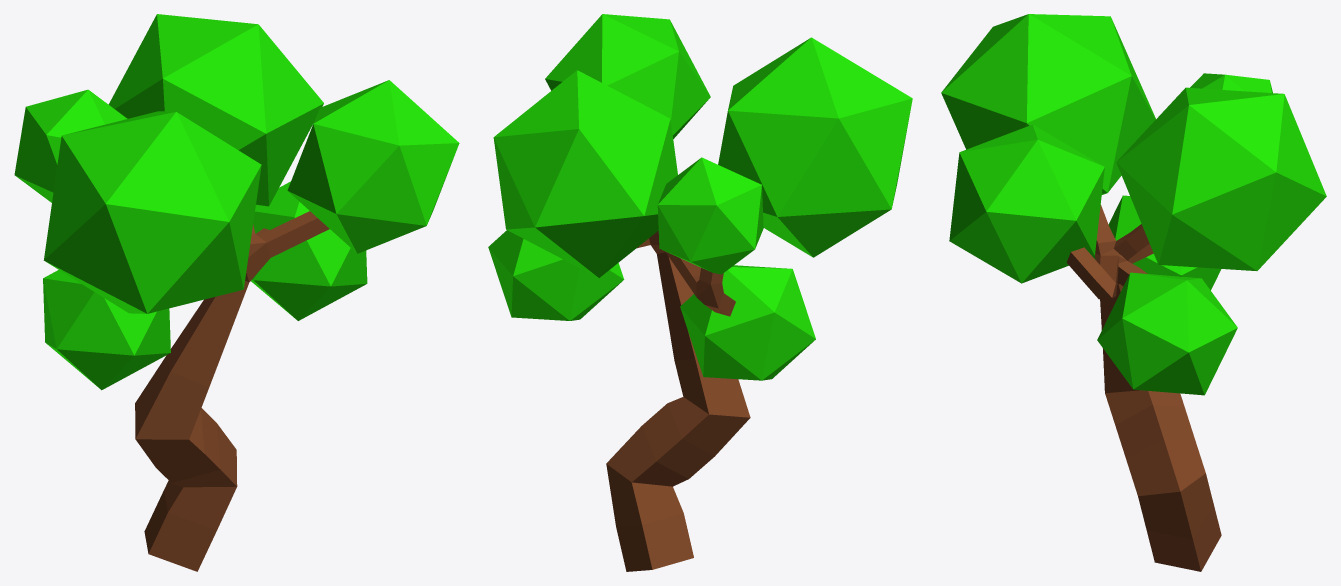
Rendered from Tree.fbx.
3 views of the same model, side by side, from view 1: azimuth 30°, elevation 25°; view 2: azimuth 150°, elevation 25°; view 3: azimuth 270°, elevation 25° (orthographic). The views are drawn at different scales.
Visible parts, largest first — view 1: Icosphere.002, Icosphere.005, Cube, Icosphere.003, Icosphere.001, Icosphere.004, Icosphere; view 2: Icosphere.002, Icosphere.005, Cube, Icosphere.001, Icosphere.003, Icosphere, Icosphere.004; view 3: Icosphere.005, Icosphere.002, Icosphere.003, Cube, Icosphere.004, Icosphere.001, Icosphere.
Part boxes in pixels (left/top/right/bottom): Icosphere.002: left=43, top=111, right=261, bottom=313; Icosphere.005: left=108, top=14, right=323, bottom=206; Cube: left=135, top=211, right=329, bottom=571; Icosphere.003: left=287, top=80, right=459, bottom=253; Icosphere.001: left=43, top=270, right=170, bottom=390; Icosphere.004: left=251, top=181, right=367, bottom=320; Icosphere: left=14, top=89, right=127, bottom=202; Icosphere.002: left=718, top=37, right=912, bottom=257; Icosphere.005: left=493, top=70, right=677, bottom=277; Cube: left=606, top=231, right=750, bottom=571; Icosphere.001: left=680, top=265, right=815, bottom=380; Icosphere.003: left=545, top=14, right=710, bottom=138; Icosphere: left=657, top=157, right=763, bottom=274; Icosphere.004: left=488, top=230, right=624, bottom=320; Icosphere.005: left=1116, top=87, right=1326, bottom=270; Icosphere.002: left=941, top=14, right=1155, bottom=194; Icosphere.003: left=949, top=124, right=1104, bottom=283; Cube: left=1066, top=204, right=1221, bottom=571; Icosphere.004: left=1097, top=272, right=1237, bottom=395; Icosphere.001: left=1093, top=195, right=1221, bottom=290; Icosphere: left=1190, top=73, right=1272, bottom=92.
Bounding box in the file's own units: 926 × 871 × 1266.
